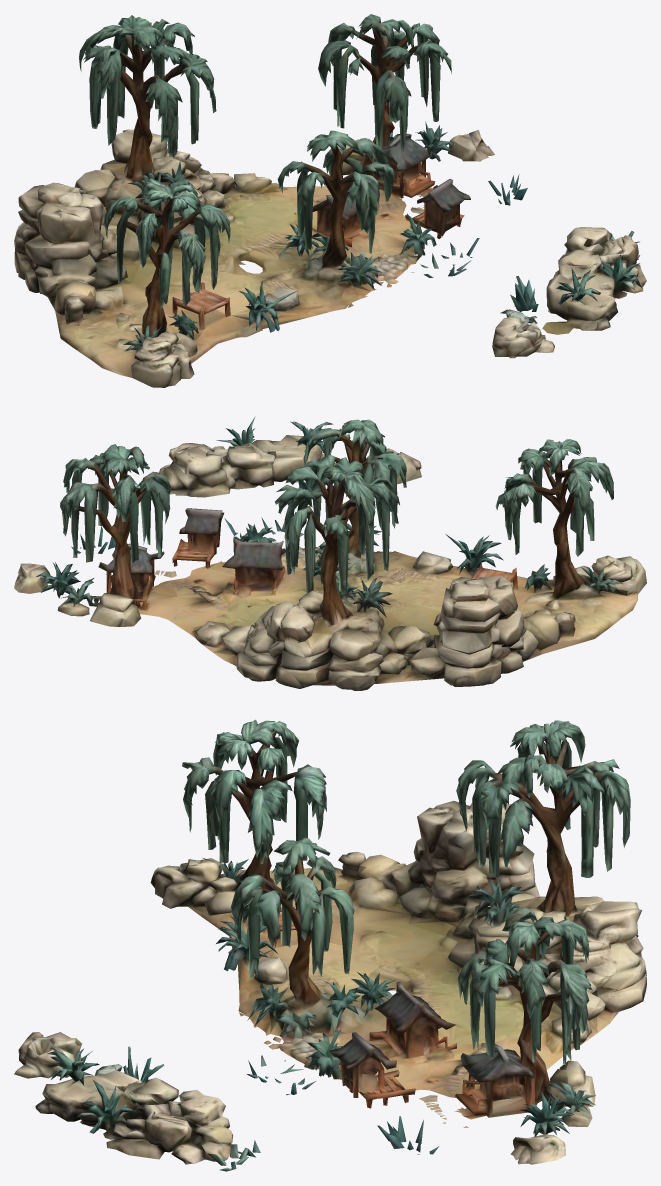
File: riverbank.glb
3 renders of one model, top to bottom at view 1: azimuth 30°, elevation 25°; view 2: azimuth 150°, elevation 25°; view 3: azimuth 270°, elevation 25°, orthographic. The views are drawn at different scales.
Parts seen in each view (by area): view 1: tripo_node_31681d2c-120b-4c20-b70d-f19139d45d23; view 2: tripo_node_31681d2c-120b-4c20-b70d-f19139d45d23; view 3: tripo_node_31681d2c-120b-4c20-b70d-f19139d45d23.
Boxes of the visible parts, left/top/right/bottom form: tripo_node_31681d2c-120b-4c20-b70d-f19139d45d23: left=14, top=14, right=646, bottom=387; tripo_node_31681d2c-120b-4c20-b70d-f19139d45d23: left=14, top=416, right=646, bottom=690; tripo_node_31681d2c-120b-4c20-b70d-f19139d45d23: left=14, top=719, right=646, bottom=1171.
Bounding box in the file's own units: 23.3 × 8.68 × 20.66.
Materials: 1 (1 with a texture image).
